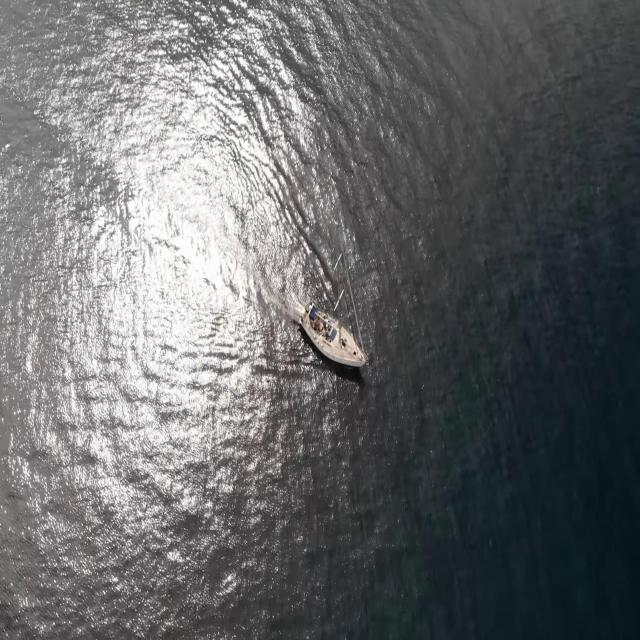sailboat: (298, 294, 369, 372)
